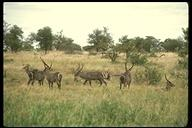antelope: (72, 61, 108, 88), (38, 56, 64, 90), (21, 62, 44, 87), (118, 60, 136, 91), (161, 72, 176, 92)
grass: (5, 94, 186, 125)
tree: (84, 25, 115, 56), (4, 23, 28, 55), (35, 24, 58, 57)
